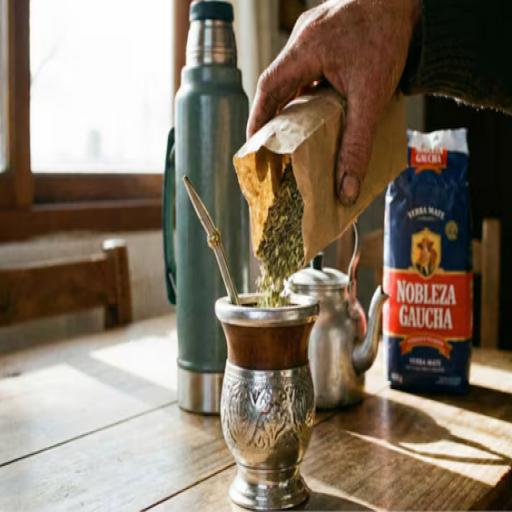mate: (216, 295, 318, 508)
termo: (163, 4, 249, 384)
